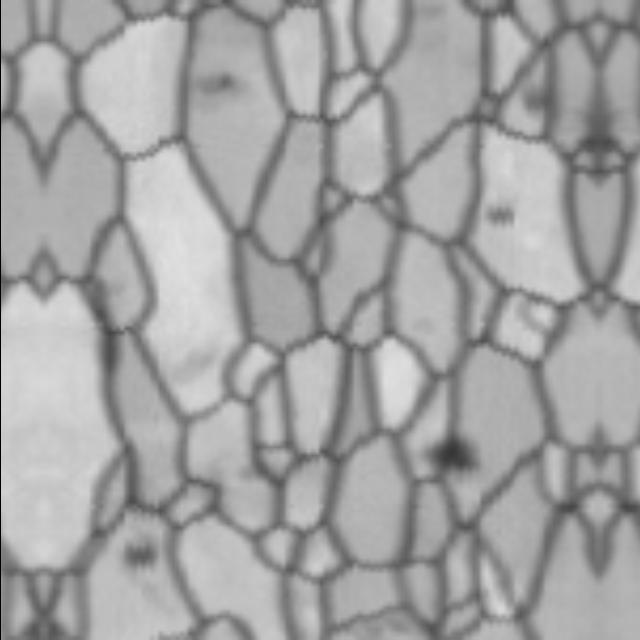good_void: (99, 506, 179, 588), (411, 428, 487, 484), (187, 57, 240, 99), (477, 193, 516, 231)
